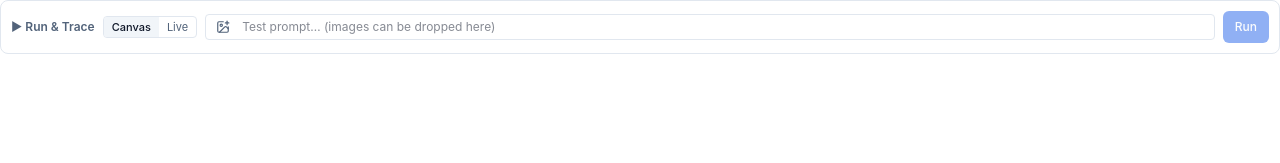
FlowRunDrawer › falls back to the live flow on a runtime without test runs, and says so
Type "hi" into the field labelled "Test prompt" at (723, 27), box [238,15,1208,39]
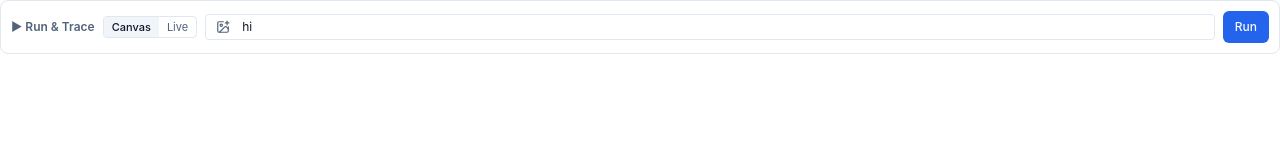
Click the button "Run" at (1246, 27), box [1223,11,1269,43]
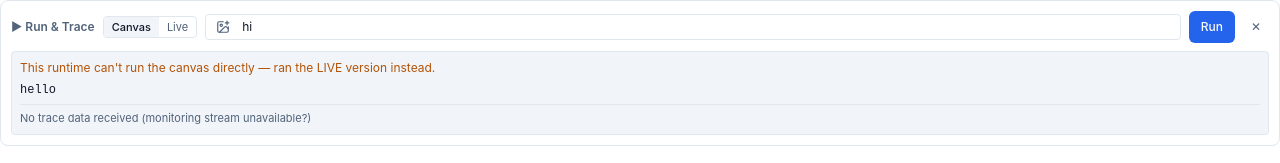
Now the text "ran the LIVE version" is shown, box [20,60,435,75]
